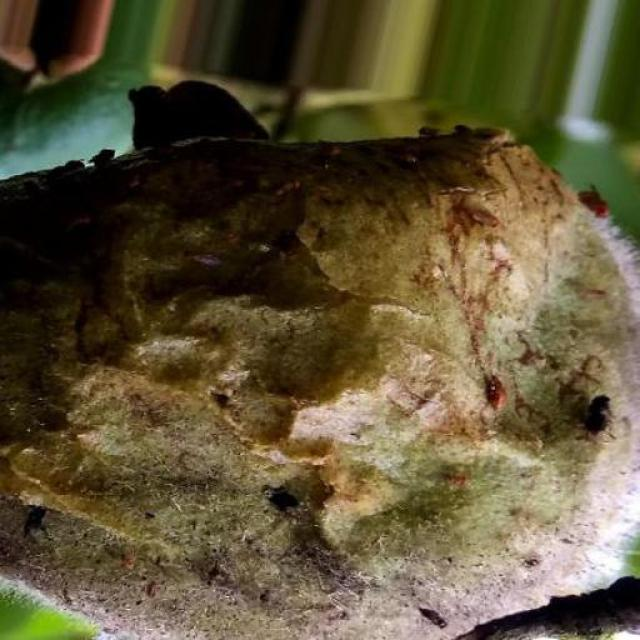Phytopthora: (0, 128, 640, 640)
